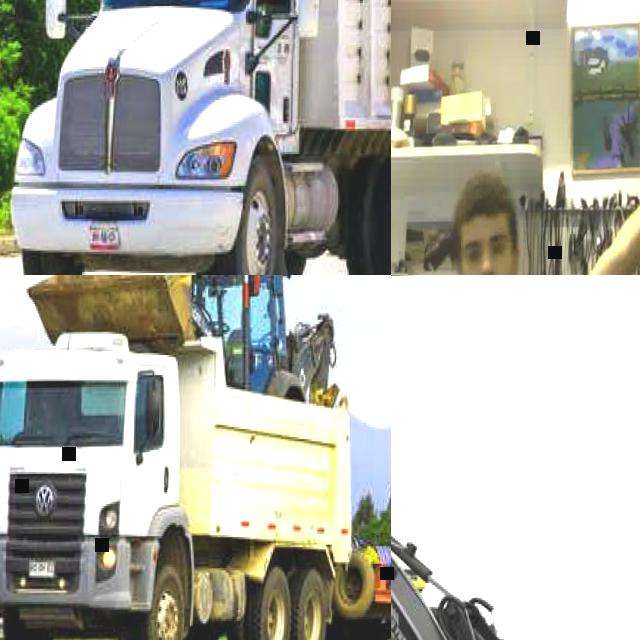machinery: (0, 318, 354, 640), (7, 0, 391, 275), (391, 386, 640, 640), (26, 275, 344, 409)
no_helmet: (456, 172, 510, 228)
person: (391, 70, 640, 275)
